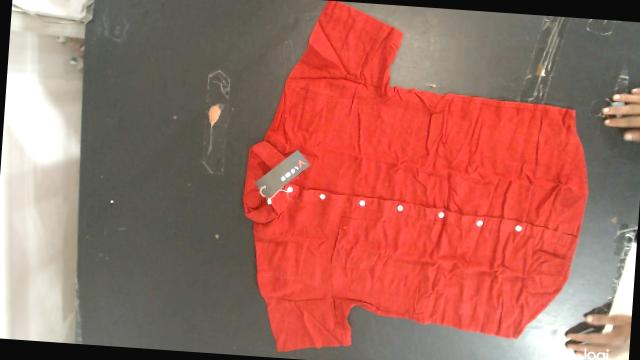new-garment: (243, 0, 587, 350)
